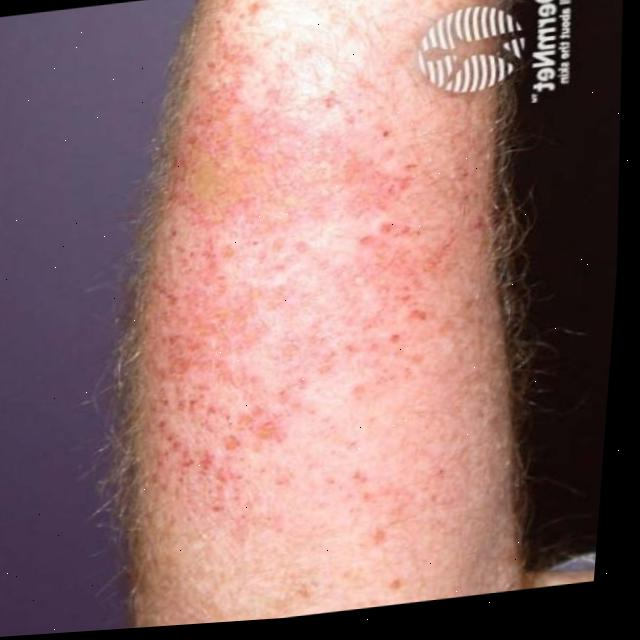Eczema: (146, 83, 439, 529)
